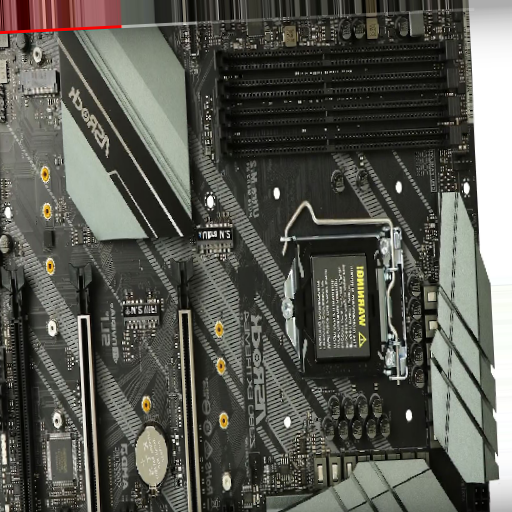CPU: (281, 237, 401, 374)
GPU: (168, 258, 207, 512), (2, 267, 38, 512), (69, 263, 104, 511)
MOTHERBOARD: (3, 5, 500, 512)
RAM: (211, 43, 467, 161)
SSD: (121, 289, 163, 333), (195, 222, 236, 255)
